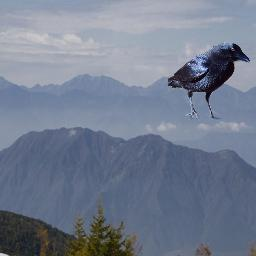Crow: (168, 42, 250, 121)
